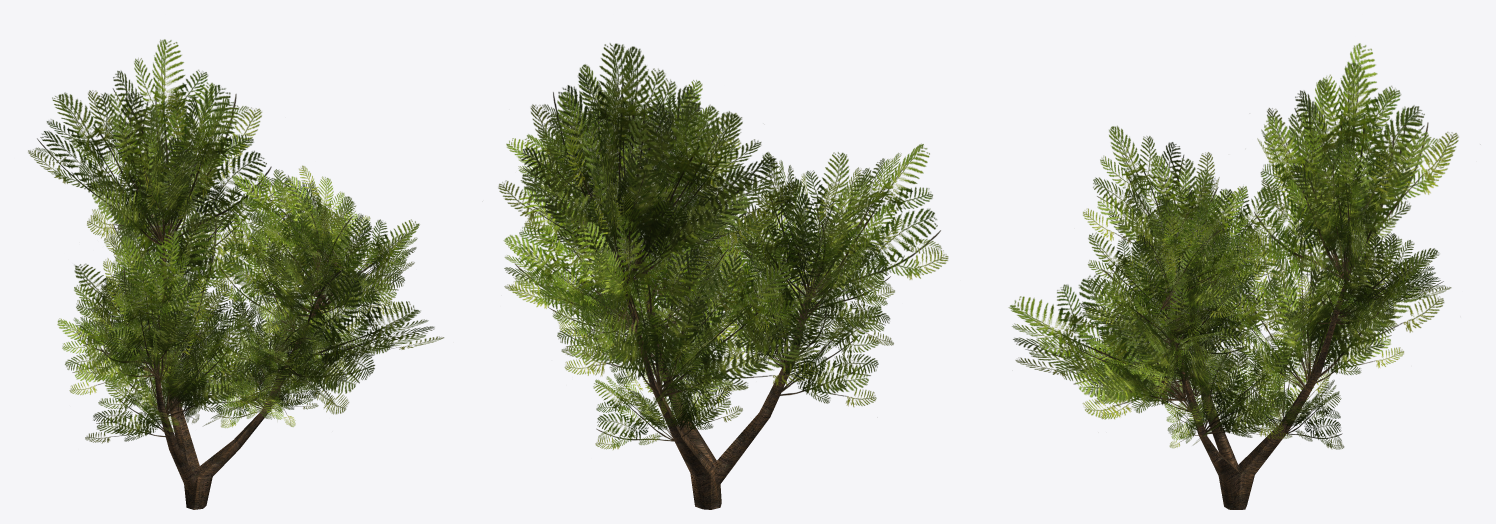
File: tree802.glb
3 renders of one model, left to right at view 1: azimuth 30°, elevation 25°; view 2: azimuth 150°, elevation 25°; view 3: azimuth 270°, elevation 25°, orthographic. The views are drawn at different scales.
Parts seen in each view (by area): view 1: tree802; view 2: tree802; view 3: tree802.
Part boxes in pixels (x1,y1,x2,y2): tree802: (28, 39, 444, 509); tree802: (498, 43, 948, 509); tree802: (1008, 43, 1458, 509).
Size of the model in its own units: 20.18 by 23.36 by 21.59.
Materials: 2 (2 with a texture image).
